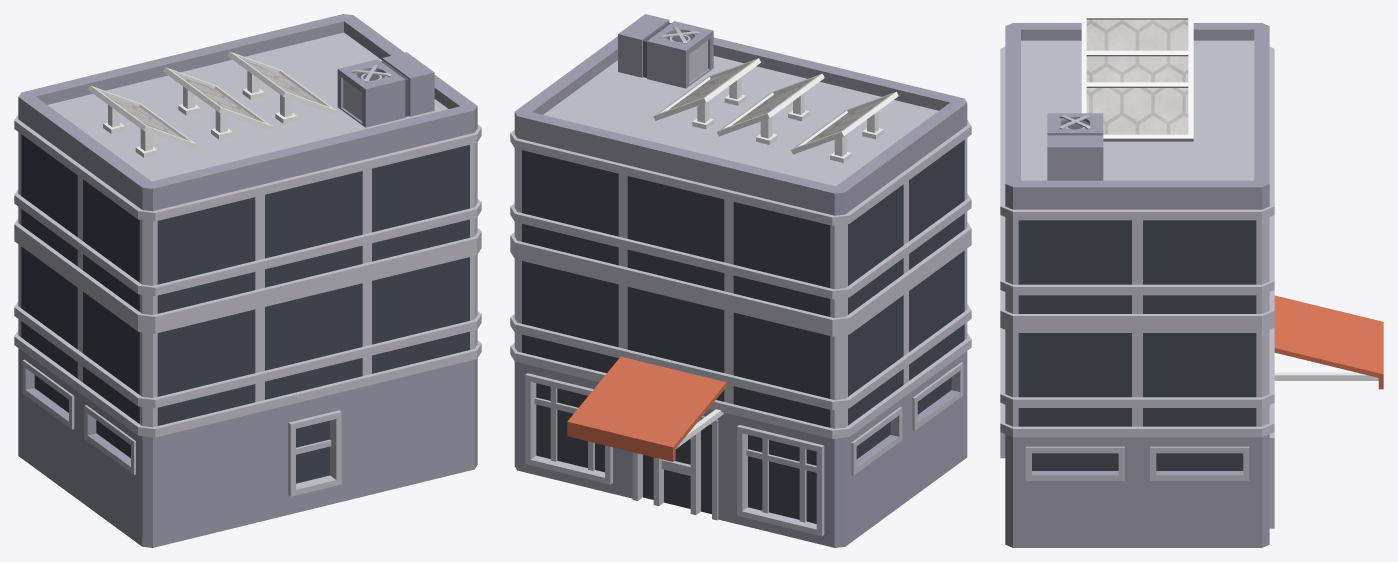
File: Building 06.fbx
3 views of the same model, side by side, from view 1: azimuth 30°, elevation 25°; view 2: azimuth 150°, elevation 25°; view 3: azimuth 270°, elevation 25° (orthographic).
Visible parts, largest first — view 1: wall_skyscraperGlassDivider%_166, wall_skyscraperGlassDivider%_157, wall_skyscraperGlassDivider%_164, wall_skyscraperGlassDivider%_159, wall_skyscraperGlassDivider%_165, wall_skyscraperGlassDivider%_158, wall_straight_254, wall_window_153, wall_straight_253, roof_corner_242, wall_windowFactory_250, wall_skyscraperGlassDivider%_168 (+13 smaller); view 2: wall_skyscraperGlassDivider%_156, wall_windowLarge_248, wall_skyscraperGlassDivider%_183, wall_skyscraperGlassDivider%_181, wall_skyscraperGlassDivider%_182, wall_skyscraperGlassDivider%_154, awning_singleTone%_256, roof_corner_240, wall_windowLarge_247, roof_corner_243, wall_skyscraperGlassDivider%_155, wall_skyscraperGlassDivider%_180 (+14 smaller); view 3: wall_skyscraperGlassDivider%_191, wall_skyscraperGlassDivider%_193, wall_windowFactory_252, wall_skyscraperGlassDivider%_173, wall_skyscraperGlassDivider%_162, wall_windowFactory_251, roof_corner_240, roof_corner_241, awning_singleTone%_256, detail_solarPanel_259, roof_corner_242, roof_corner_243 (+10 smaller).
Part boxes in pixels (x1,y1,x2,y2): wall_skyscraperGlassDivider%_166: [138, 186, 262, 325]; wall_skyscraperGlassDivider%_157: [138, 299, 263, 437]; wall_skyscraperGlassDivider%_164: [363, 127, 481, 272]; wall_skyscraperGlassDivider%_159: [367, 240, 481, 384]; wall_skyscraperGlassDivider%_165: [256, 158, 371, 298]; wall_skyscraperGlassDivider%_158: [257, 273, 370, 411]; wall_straight_254: [367, 359, 474, 495]; wall_window_153: [260, 386, 367, 521]; wall_straight_253: [153, 412, 259, 547]; roof_corner_242: [80, 123, 262, 211]; wall_windowFactory_250: [80, 393, 152, 547]; wall_skyscraperGlassDivider%_168: [76, 163, 156, 322]; wall_skyscraperGlassDivider%_156: [725, 302, 849, 438]; wall_windowLarge_248: [729, 414, 845, 547]; wall_skyscraperGlassDivider%_183: [510, 132, 623, 276]; wall_skyscraperGlassDivider%_181: [725, 189, 848, 327]; wall_skyscraperGlassDivider%_182: [619, 163, 732, 302]; wall_skyscraperGlassDivider%_154: [510, 244, 626, 381]; awning_singleTone%_256: [567, 356, 727, 461]; roof_corner_240: [514, 66, 686, 163]; wall_windowLarge_247: [514, 361, 623, 496]; roof_corner_243: [727, 130, 906, 215]; wall_skyscraperGlassDivider%_155: [619, 277, 732, 412]; wall_skyscraperGlassDivider%_180: [831, 170, 910, 328]; wall_skyscraperGlassDivider%_191: [1133, 204, 1274, 324]; wall_skyscraperGlassDivider%_193: [1133, 320, 1274, 437]; wall_windowFactory_252: [1005, 434, 1137, 547]; wall_skyscraperGlassDivider%_173: [1001, 205, 1141, 324]; wall_skyscraperGlassDivider%_162: [1000, 324, 1142, 437]; wall_windowFactory_251: [1137, 437, 1261, 547]; roof_corner_240: [1129, 128, 1269, 209]; roof_corner_241: [1005, 128, 1145, 209]; awning_singleTone%_256: [1274, 295, 1383, 389]; detail_solarPanel_259: [1081, 82, 1193, 141]; roof_corner_242: [1005, 23, 1081, 93]; roof_corner_243: [1193, 23, 1269, 93].
Bounding box in the file's own units: 32.05 × 34.61 × 30.8.
7 materials, 1 textured.
